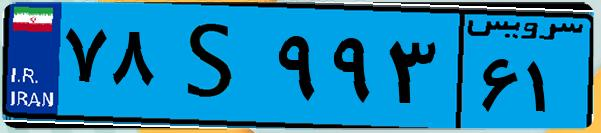1: (525, 38, 570, 115)
3: (385, 28, 445, 110)
6: (475, 38, 525, 113)
7: (57, 26, 110, 100)
8: (110, 28, 158, 98)
9: (270, 28, 330, 110), (330, 28, 385, 110)
S: (158, 12, 270, 120)
